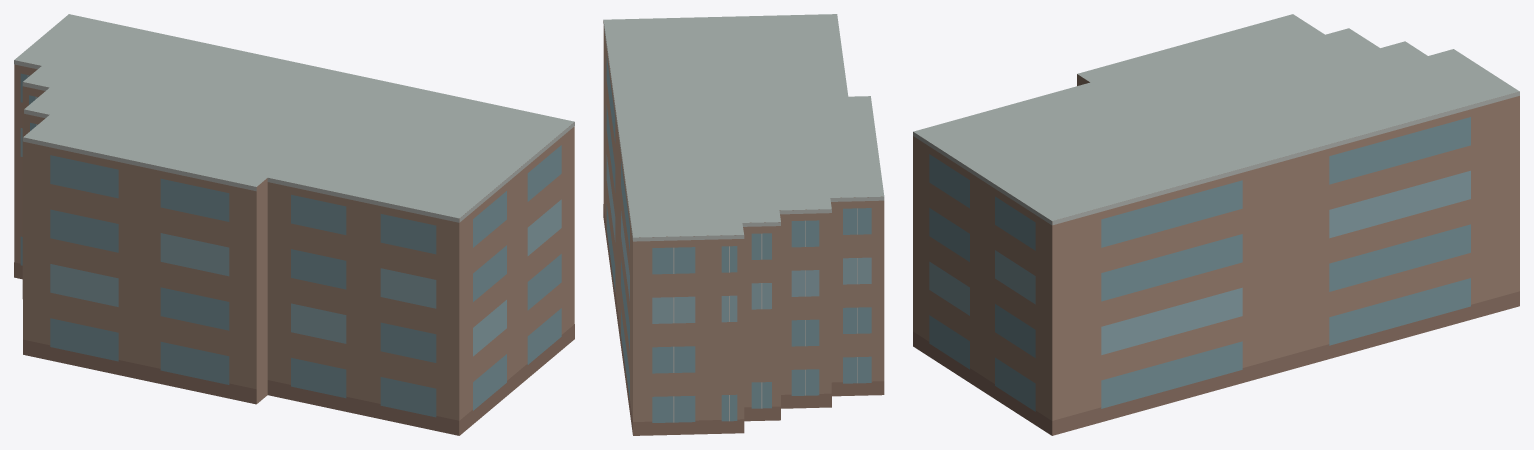
File: residential-b36eeba2-6d90-43c4-95df-2d82bd9841b1.glb
3 renders of one model, left to right at view 1: azimuth 30°, elevation 25°; view 2: azimuth 150°, elevation 25°; view 3: azimuth 270°, elevation 25°, orthographic. The views are drawn at different scales.
Parts seen in each view (by area): view 1: residential-b36eeba2-6d90-43c4-95df-2d82bd9841b1.tmp; view 2: residential-b36eeba2-6d90-43c4-95df-2d82bd9841b1.tmp; view 3: residential-b36eeba2-6d90-43c4-95df-2d82bd9841b1.tmp.
Part boxes in pixels (bbox=[...]): residential-b36eeba2-6d90-43c4-95df-2d82bd9841b1.tmp: bbox=[14, 14, 574, 435]; residential-b36eeba2-6d90-43c4-95df-2d82bd9841b1.tmp: bbox=[603, 14, 884, 435]; residential-b36eeba2-6d90-43c4-95df-2d82bd9841b1.tmp: bbox=[913, 14, 1519, 435].
Size of the model in its own units: 25.25 by 12.2 by 31.25.
